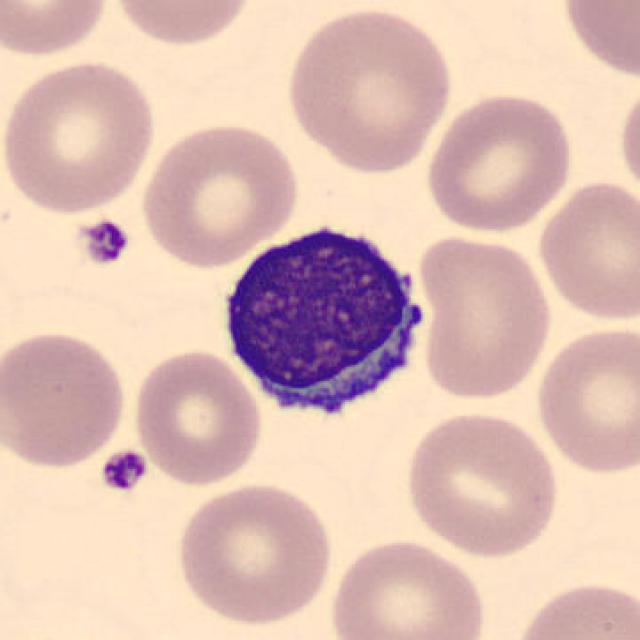Lymphocyte: (210, 210, 439, 434)
Platelets: (76, 215, 132, 268), (98, 448, 149, 495)
RBC: (281, 3, 457, 176), (0, 56, 160, 217), (137, 116, 304, 270), (400, 407, 564, 561), (412, 229, 554, 404), (171, 480, 336, 628), (421, 88, 578, 235), (128, 346, 267, 488), (0, 326, 130, 473), (325, 534, 489, 640), (532, 321, 638, 479), (534, 175, 638, 322), (508, 576, 638, 640), (104, 0, 259, 49), (555, 0, 638, 83), (0, 0, 112, 60), (615, 78, 640, 202)
